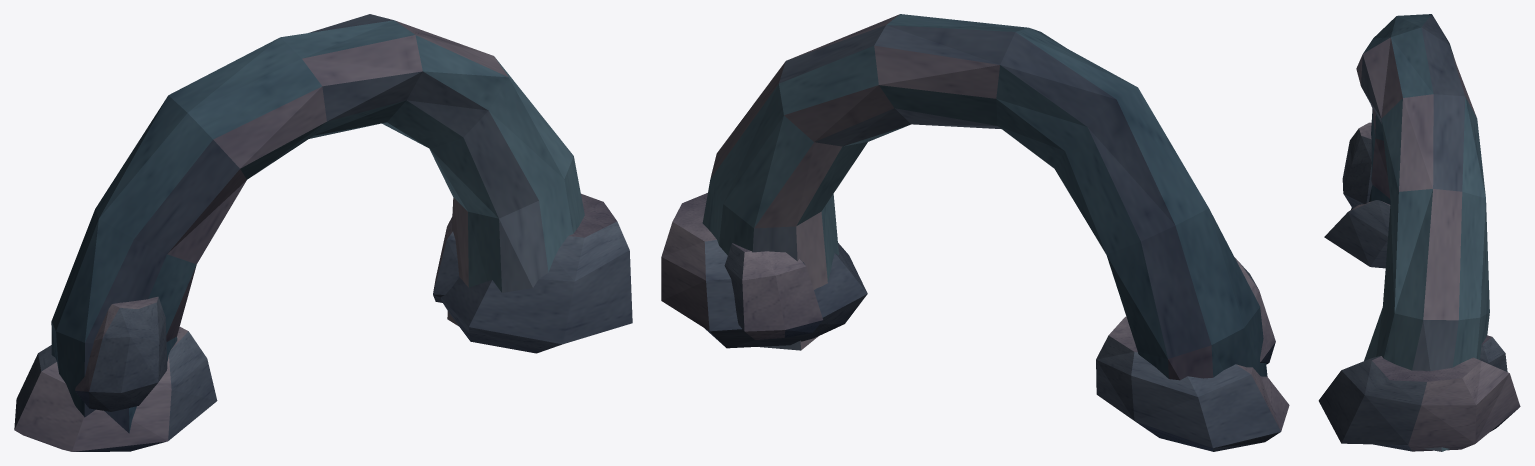
The model's file is Roca_Arco_Natural.fbx.
3 renders of one model, left to right at view 1: azimuth 30°, elevation 25°; view 2: azimuth 150°, elevation 25°; view 3: azimuth 270°, elevation 25°, orthographic. The views are drawn at different scales.
Parts seen in each view (by area): view 1: Roca_Arco_Natural; view 2: Roca_Arco_Natural; view 3: Roca_Arco_Natural.
Boxes of the visible parts, <box> form: Roca_Arco_Natural: <box>14,14,632,451</box>; Roca_Arco_Natural: <box>661,14,1289,451</box>; Roca_Arco_Natural: <box>1318,14,1520,451</box>.
Bounding box in the file's own units: 19.69 × 6.61 × 10.93.
Materials: 1 (1 with a texture image).
